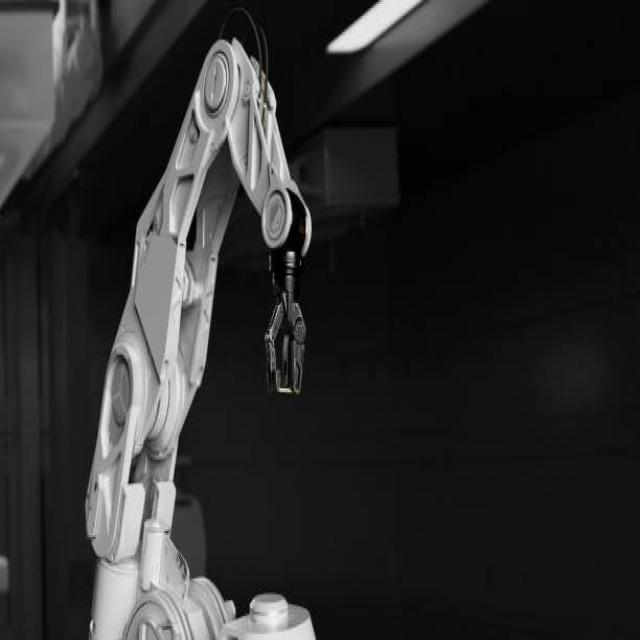Robotic-arm: (82, 30, 326, 640)
